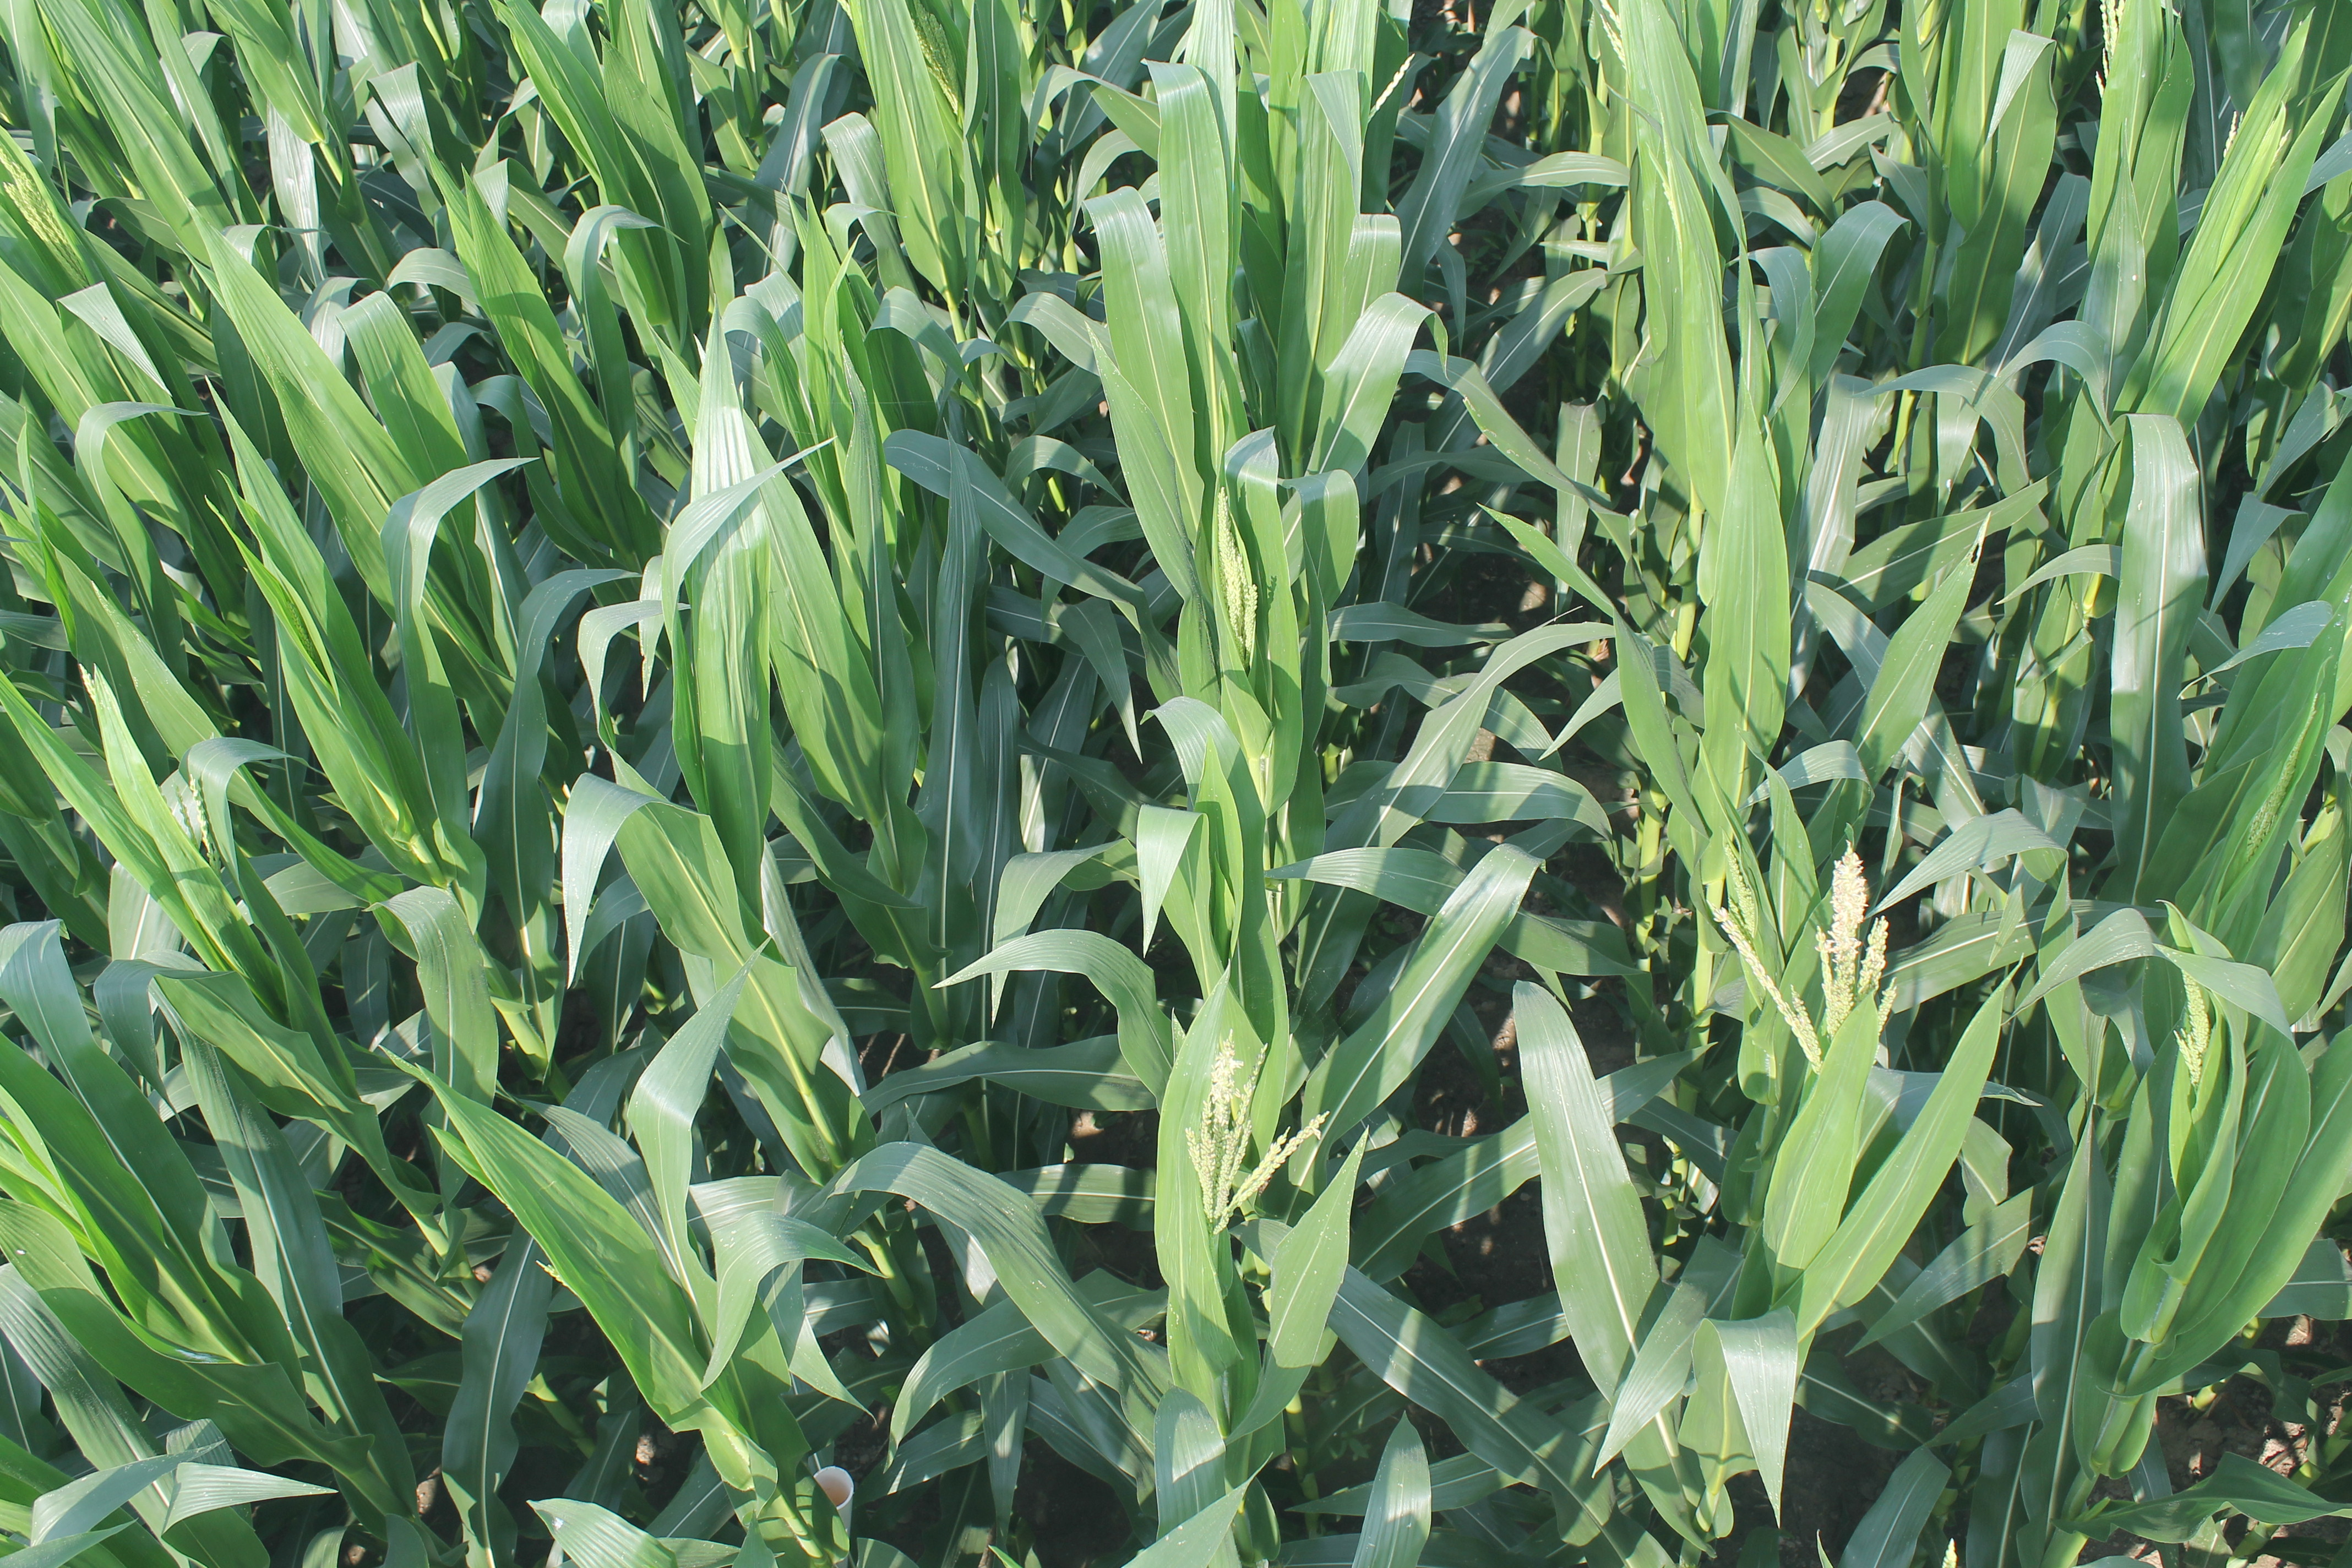Maize: (1771, 838, 1893, 1059), (1197, 1039, 1321, 1223)
